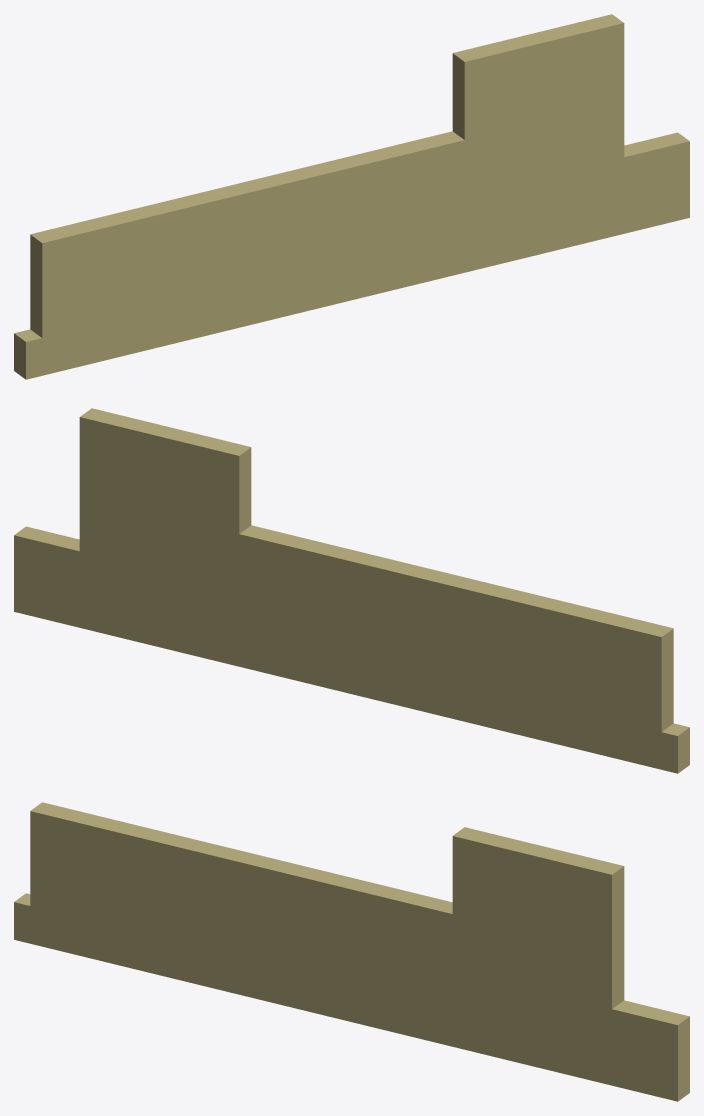
File: ruin8.fbx
The picture shows the model from 3 angles, top to bottom: view 1: azimuth 30°, elevation 25°; view 2: azimuth 150°, elevation 25°; view 3: azimuth 330°, elevation 25°; orthographic projection.
Parts seen in each view (by area): view 1: Boole_6; view 2: Boole_6; view 3: Boole_6.
Boxes of the visible parts, bbox=[...] form: Boole_6: bbox=[14, 14, 689, 379]; Boole_6: bbox=[14, 408, 689, 773]; Boole_6: bbox=[14, 802, 689, 1101].
Size of the model in its own units: 344 by 104 by 10.86.
